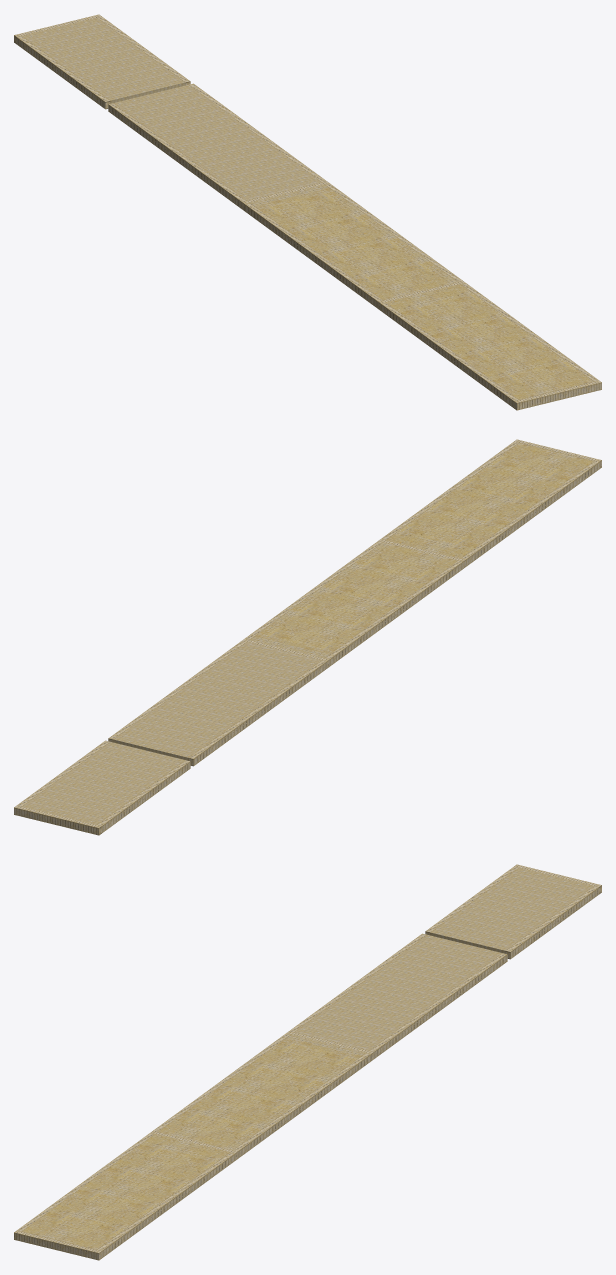
File: tutorial_structure_base_pt05.dae
3 renders of one model, top to bottom at view 1: azimuth 30°, elevation 25°; view 2: azimuth 150°, elevation 25°; view 3: azimuth 330°, elevation 25°, orthographic.
Visible parts, largest first — view 1: tutorial_structure_base_pt05; view 2: tutorial_structure_base_pt05; view 3: tutorial_structure_base_pt05.
Boxes of the visible parts, bbox=[...] form: tutorial_structure_base_pt05: bbox=[14, 14, 601, 410]; tutorial_structure_base_pt05: bbox=[14, 439, 601, 835]; tutorial_structure_base_pt05: bbox=[14, 864, 601, 1260].
Bounding box in the file's own units: 12.03 × 123 × 0.985.
Materials: 4 (4 with a texture image).
